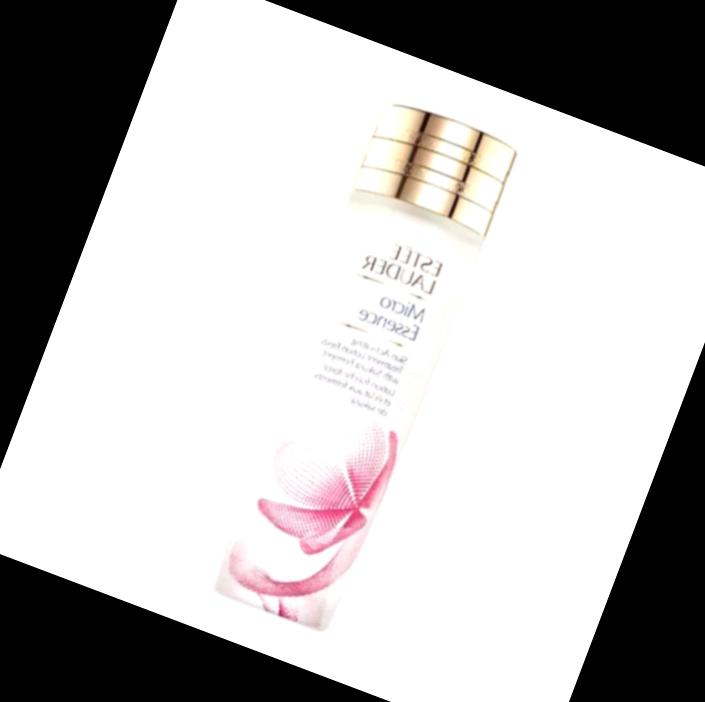cosmetic: (203, 100, 512, 635)
